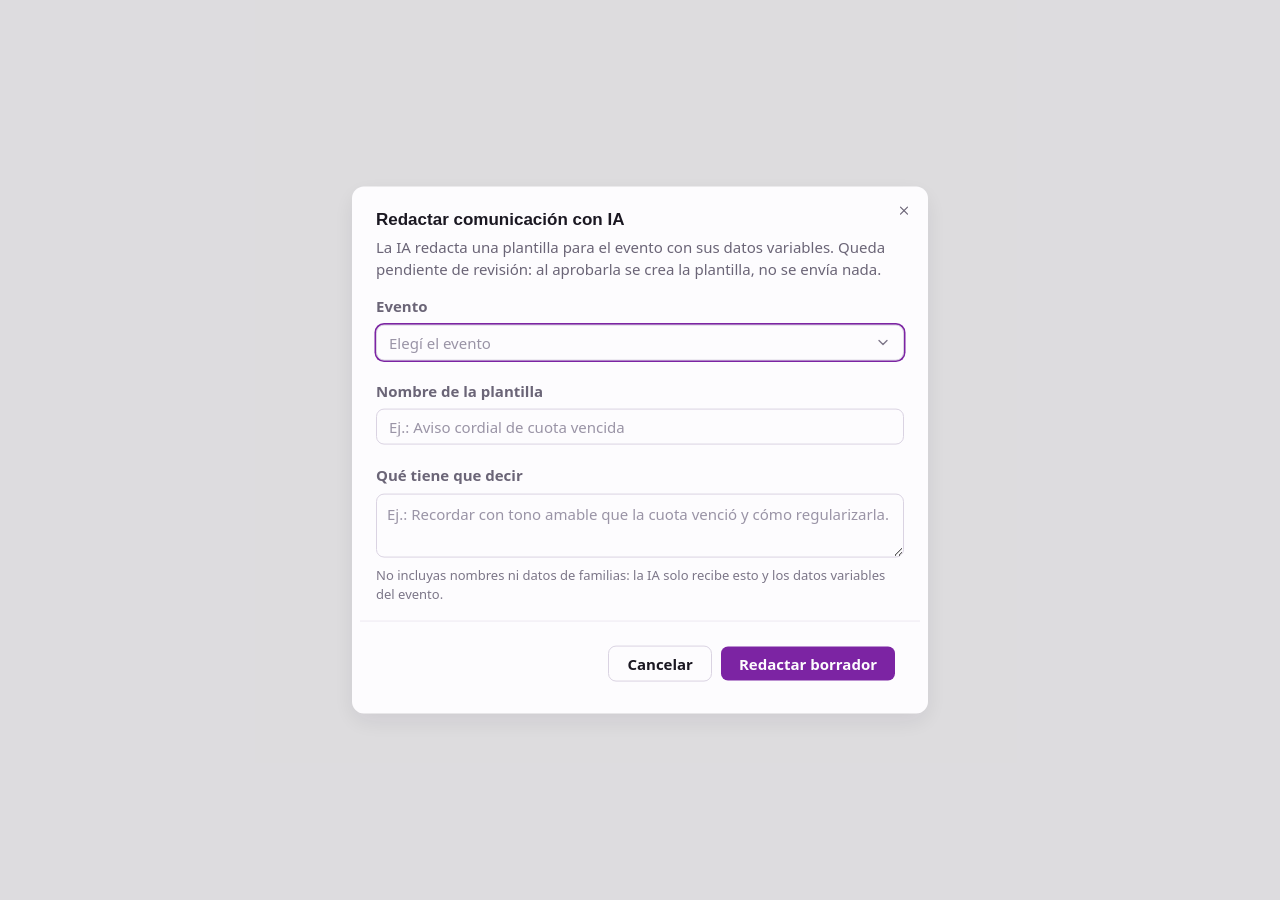
RedactarComunicacionDialog › no le pide nada a la IA si falta el evento
In the field labelled "Nombre de la plantilla": (640, 427) [376,409,904,445], type "Aviso de cuota"
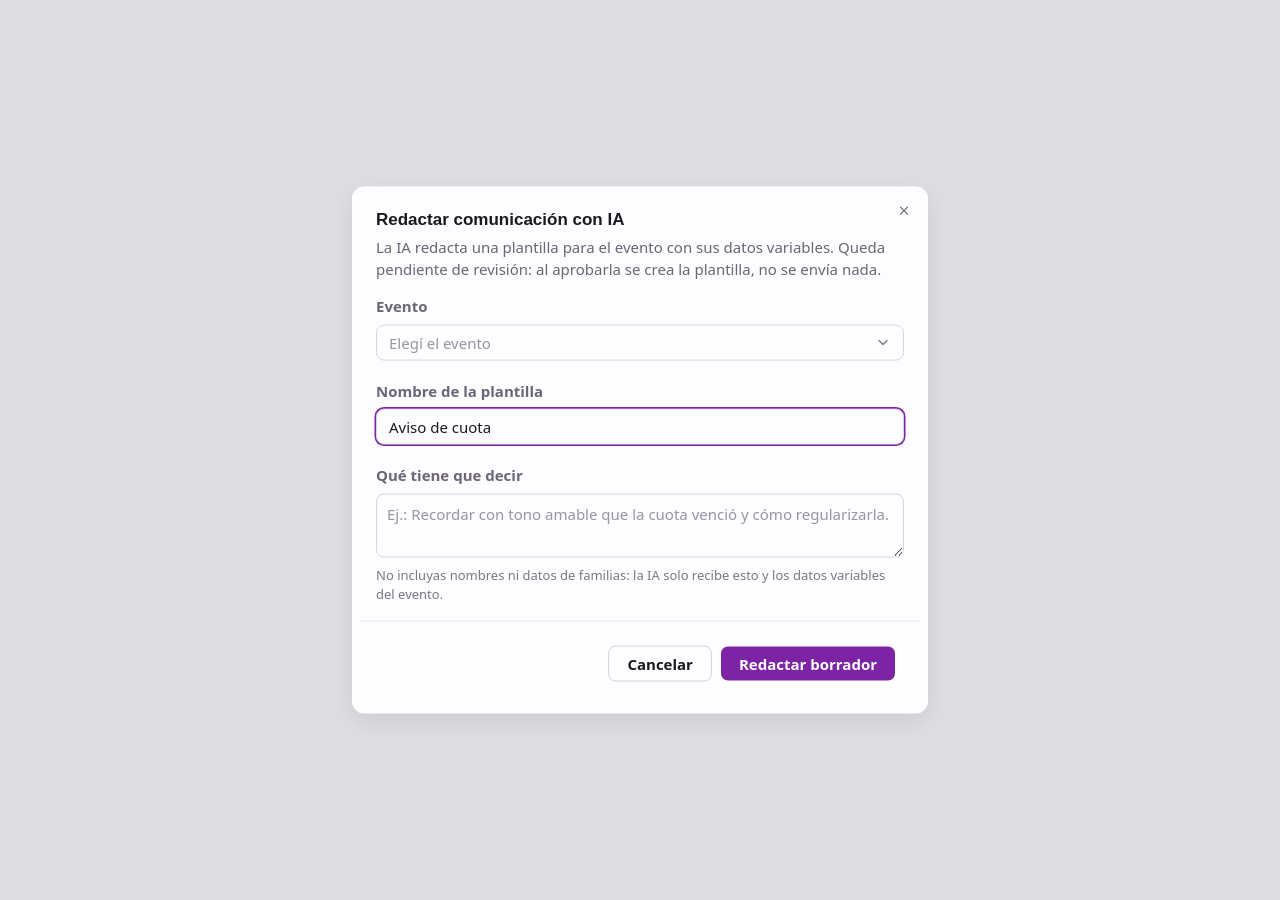
In the text box labelled "Qué tiene que decir": (640, 525) [376,493,904,557], type "Recordar con tono amable que la cuota venció."
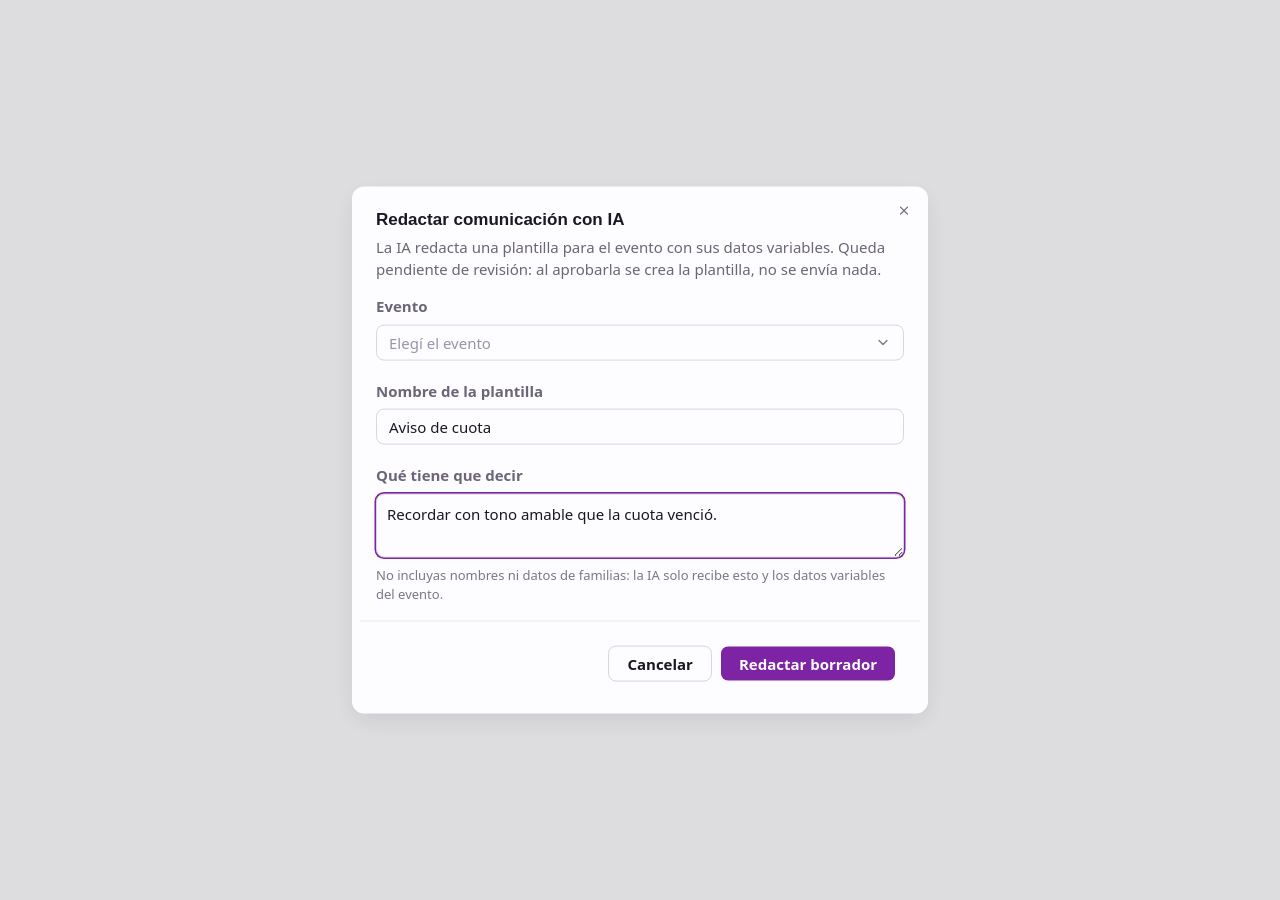
Click the button "Redactar borrador": (808, 663) [720,645,896,681]
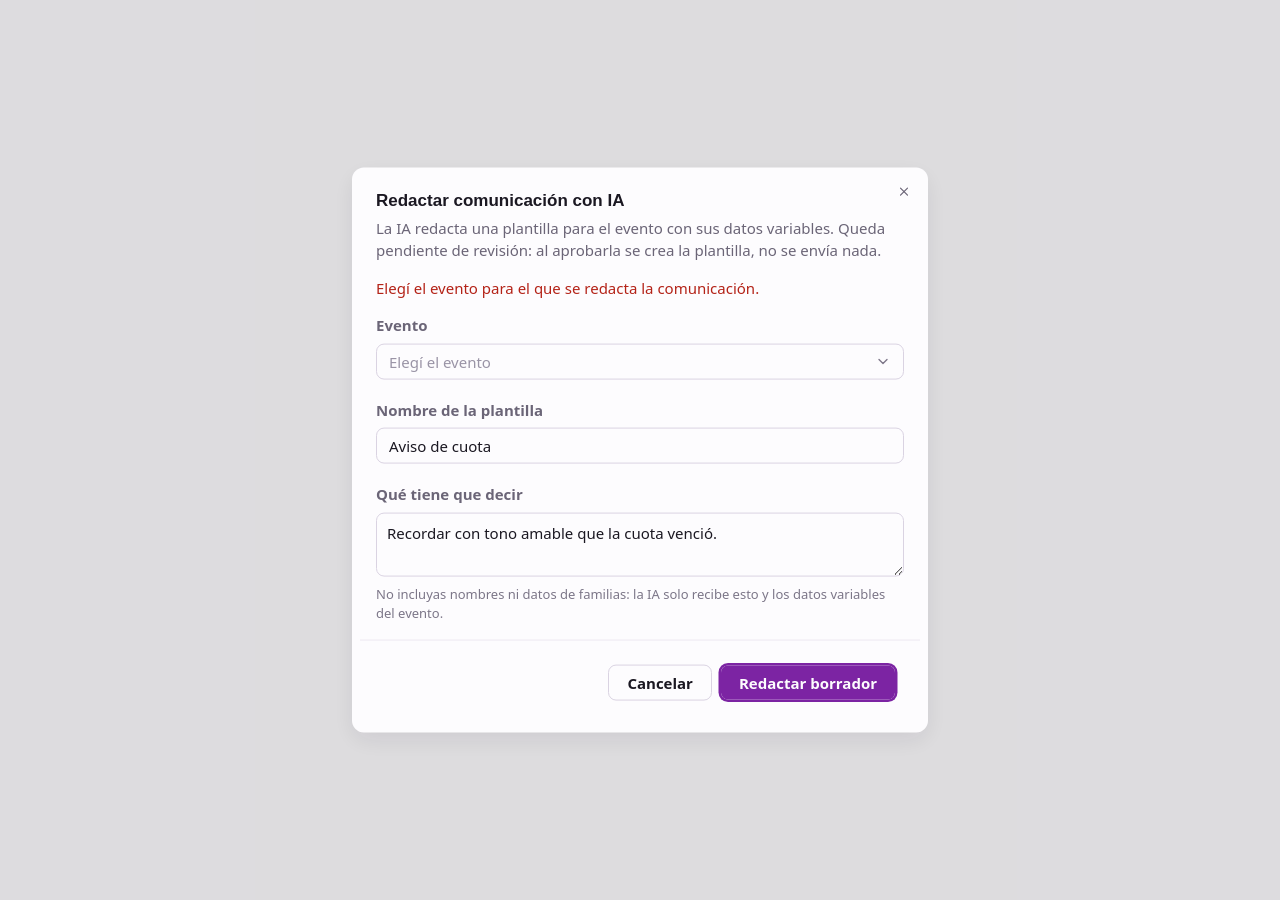
Expected: the message shows "Elegí el evento", [376,278,759,298]
